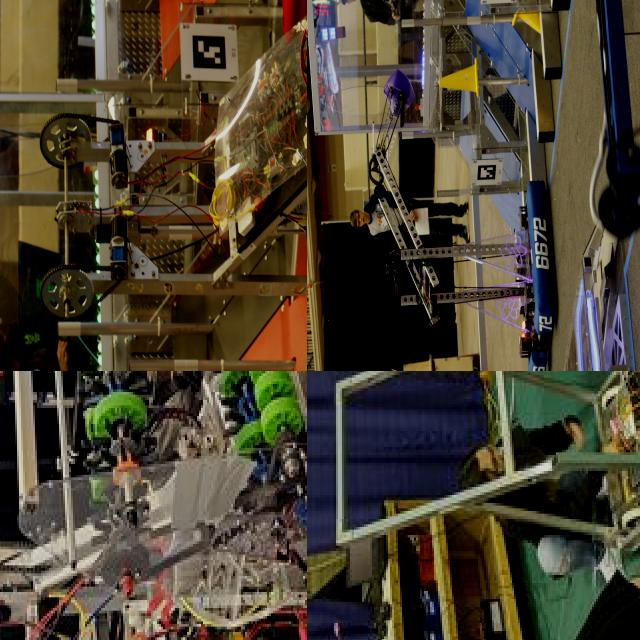FRC-Robots: (33, 0, 307, 371), (0, 371, 307, 640), (317, 371, 640, 580), (347, 147, 562, 371), (31, 0, 307, 58)
